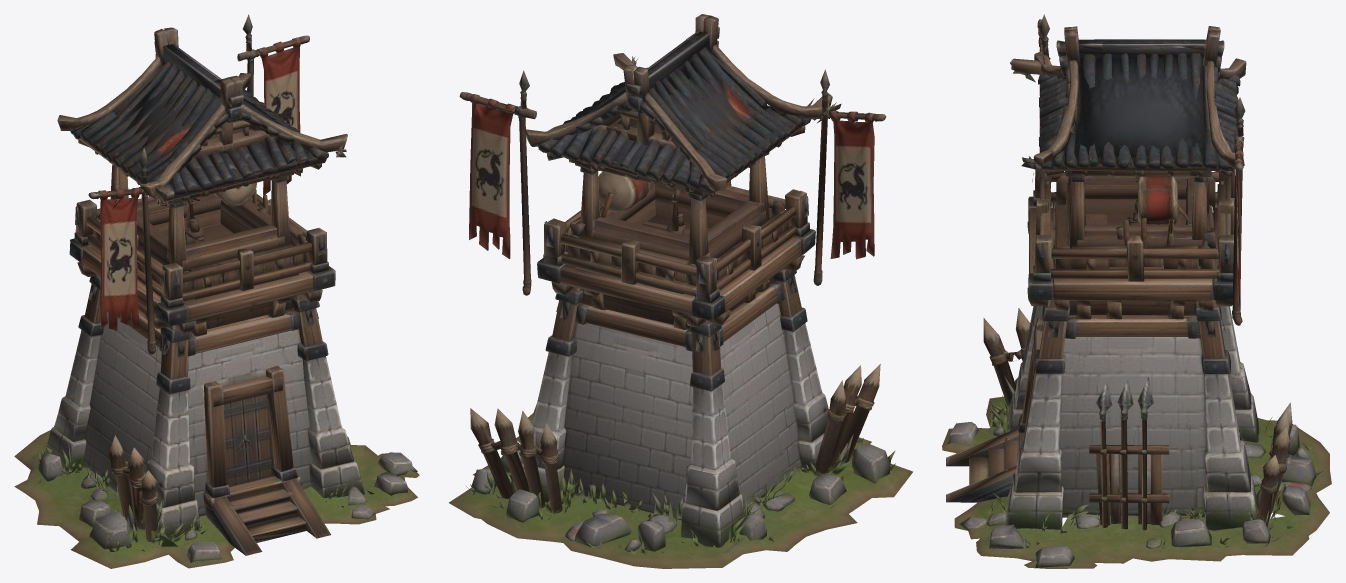
File: tower.glb
3 views of the same model, side by side, from view 1: azimuth 30°, elevation 25°; view 2: azimuth 150°, elevation 25°; view 3: azimuth 270°, elevation 25° (orthographic). The views are drawn at different scales.
Bounding box in the file's own units: 0.8003 × 0.9526 × 0.7437.
Materials: 1 (1 with a texture image).
